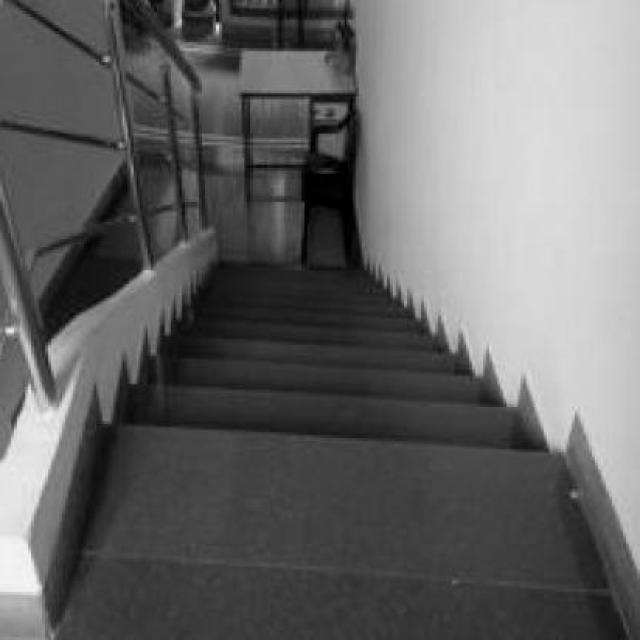stair: (120, 290, 581, 486)
